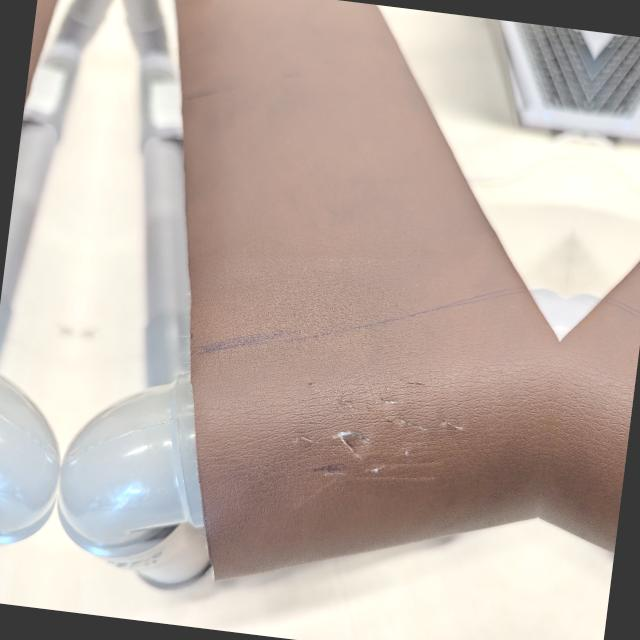belt_crack: (229, 354, 477, 512), (613, 401, 632, 531)
